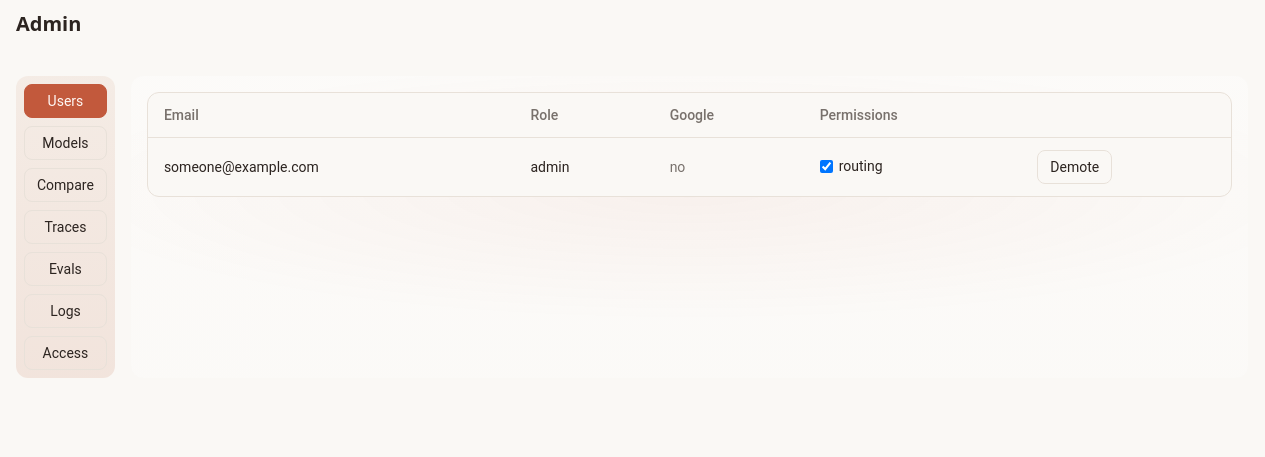
AdminView › shows the API error message inline when an update fails
Click the button with test id "toggle-role-someone@example.com" at [1075, 167], box [1037,150,1112,184]
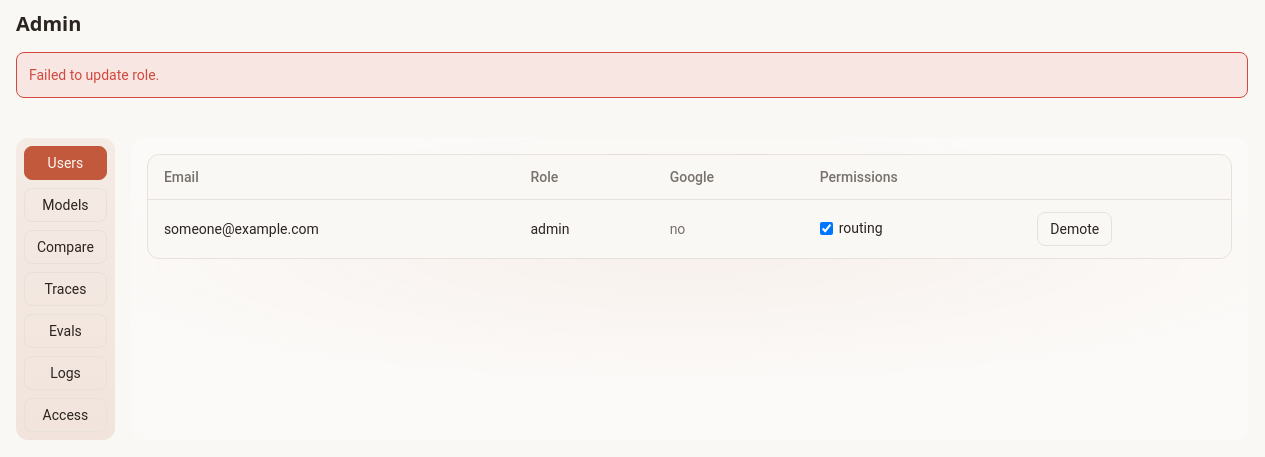
Result: the text with test id "admin-error" reads "Failed to update role." at [29,67,159,83]
